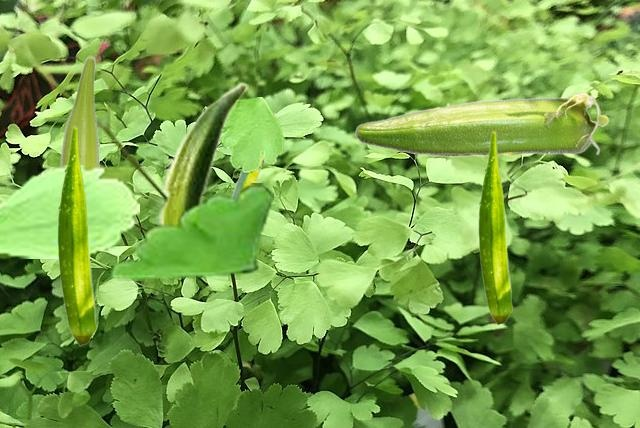okra: (354, 91, 608, 156), (157, 82, 247, 222), (57, 125, 96, 345), (478, 130, 512, 324), (60, 55, 100, 168), (232, 112, 275, 196)
